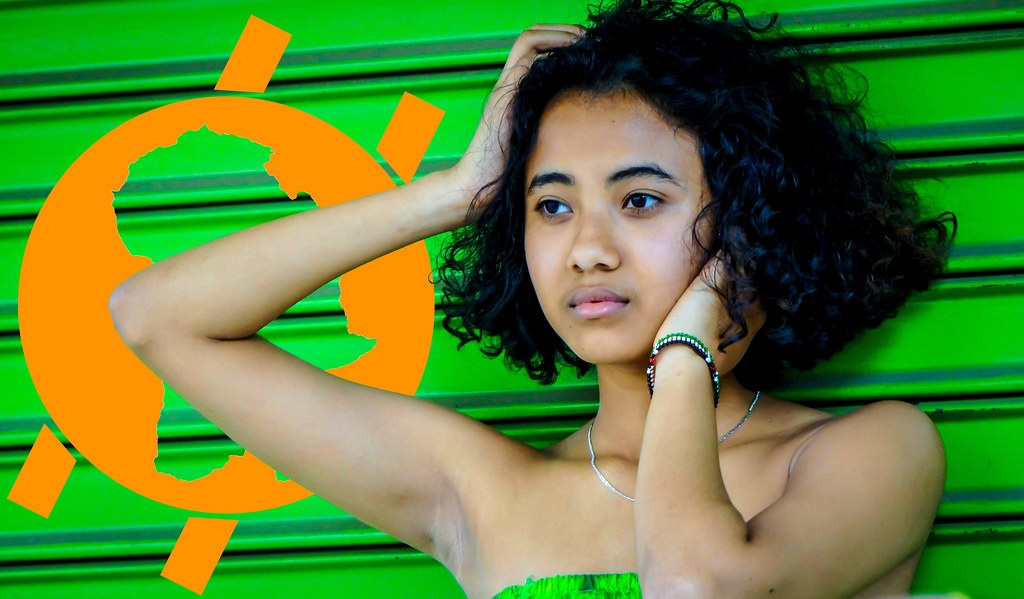without_mask: (498, 85, 747, 364)
